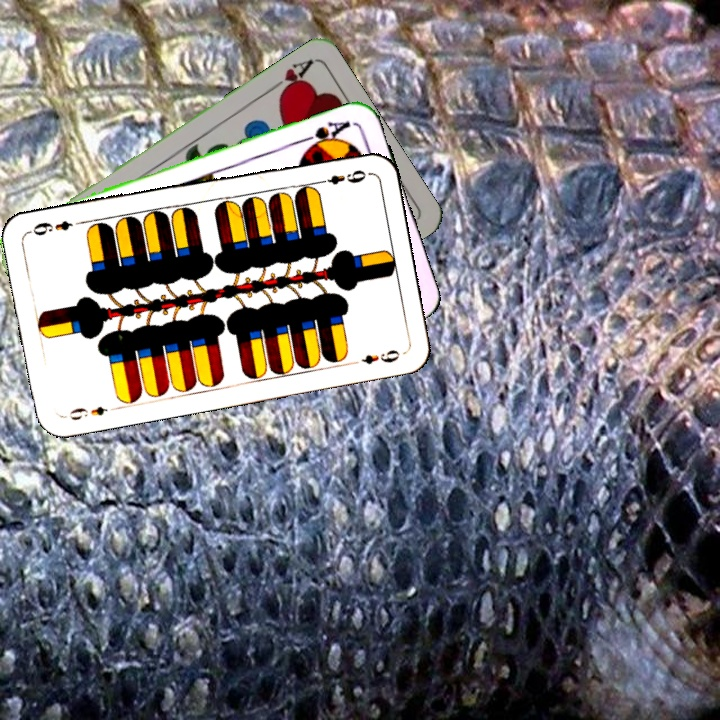E9: (312, 165, 371, 187), (66, 402, 110, 423)
HA: (263, 55, 316, 101)
SA: (297, 117, 354, 153)
